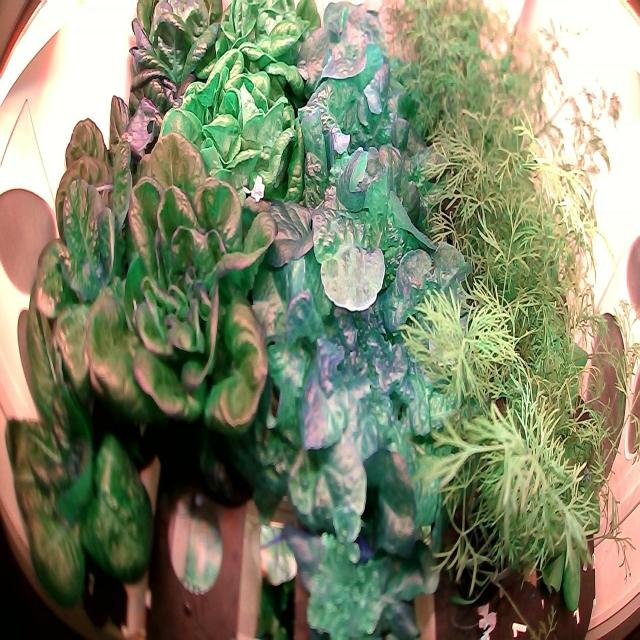Ready: (84, 114, 292, 481), (1, 278, 162, 612), (4, 112, 168, 414), (157, 46, 292, 244), (124, 0, 239, 136), (213, 0, 314, 138), (494, 103, 518, 104)
empty_pod: (160, 478, 231, 598)
